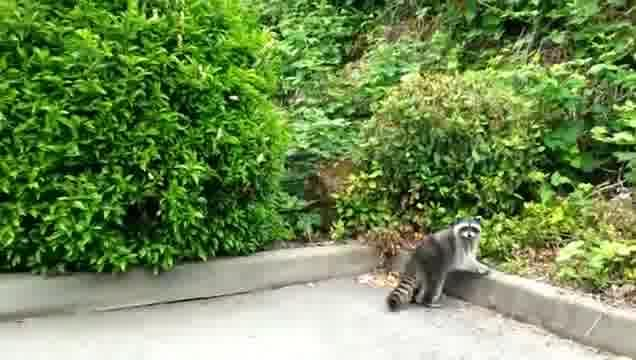raccoon: (385, 213, 492, 315)
